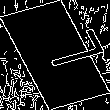L_W: (15, 32, 95, 78)
